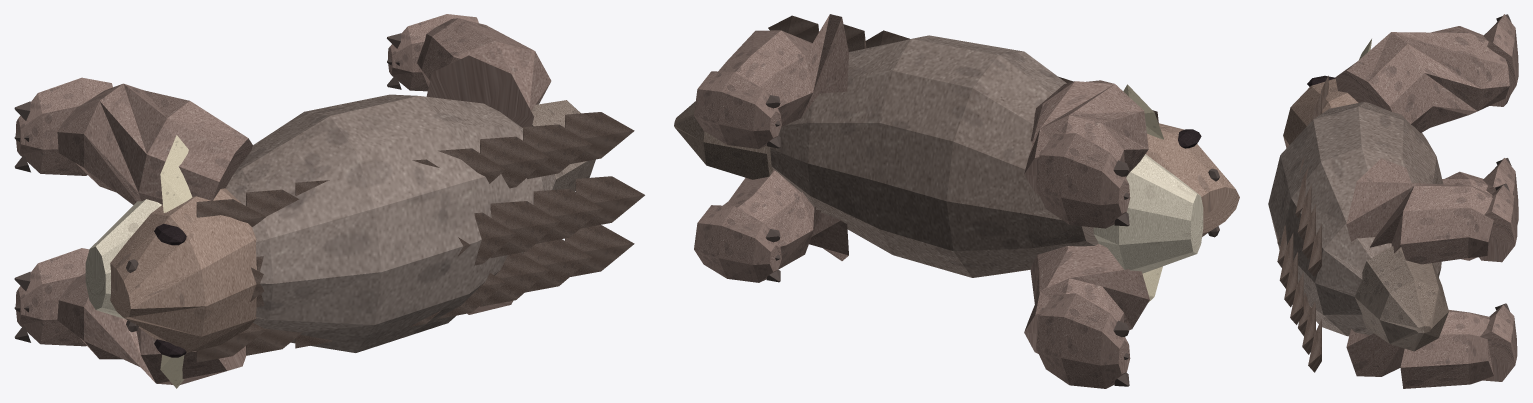
The model's file is casquim_blockout_v01.glb.
The picture shows the model from 3 angles, left to right: view 1: azimuth 30°, elevation 25°; view 2: azimuth 150°, elevation 25°; view 3: azimuth 270°, elevation 25°; orthographic projection. The views are drawn at different scales.
Parts seen in each view (by area): view 1: casquim; view 2: casquim; view 3: casquim.
Part boxes in pixels (bbox=[...]): casquim: bbox=[14, 14, 644, 388]; casquim: bbox=[674, 14, 1239, 388]; casquim: bbox=[1268, 14, 1518, 388].
Bounding box in the file's own units: 1.58 × 0.784 × 0.7633.
Materials: 1 (1 with a texture image).
